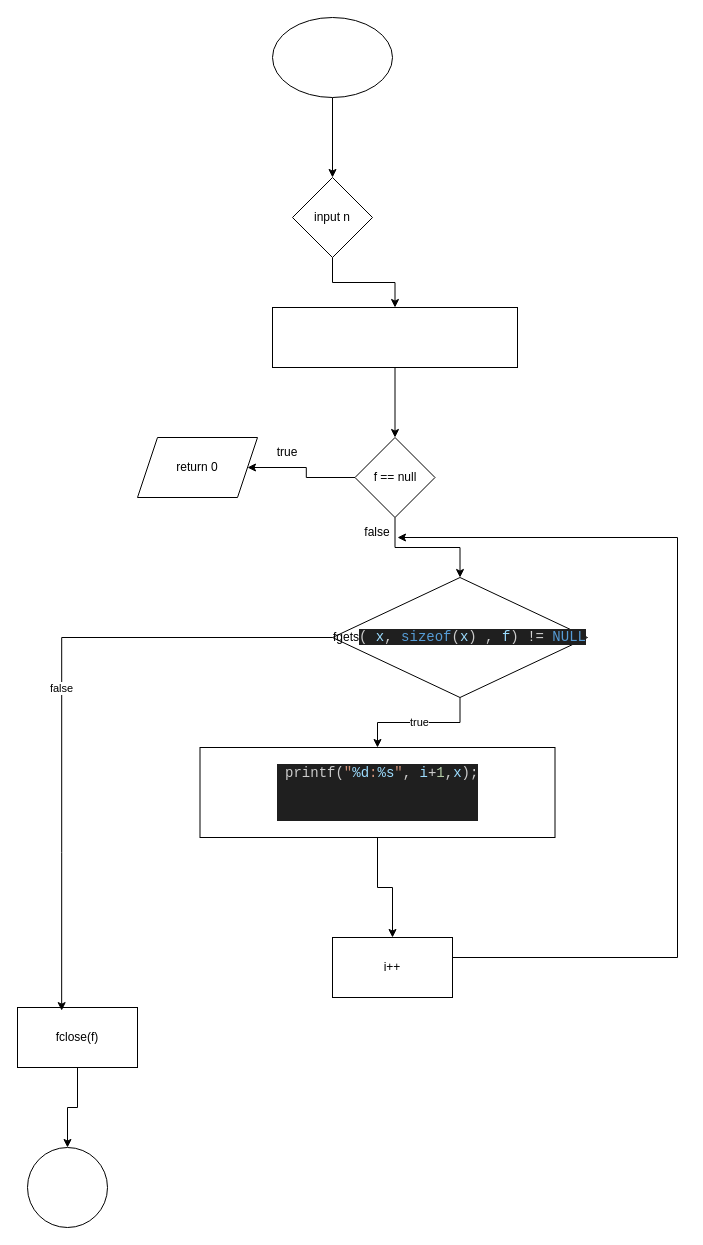
Image size: 703x1245. Some labels were removed from this diagram. The shapes that lost their labels are listed below. From the top down, each one's centre as x and y in pixels, then its label:
(332,57): start
(395,337): f = fopen ( "bt03.txt" , "r" );
(67,1187): end
